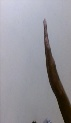hand: (42, 17, 62, 91)
